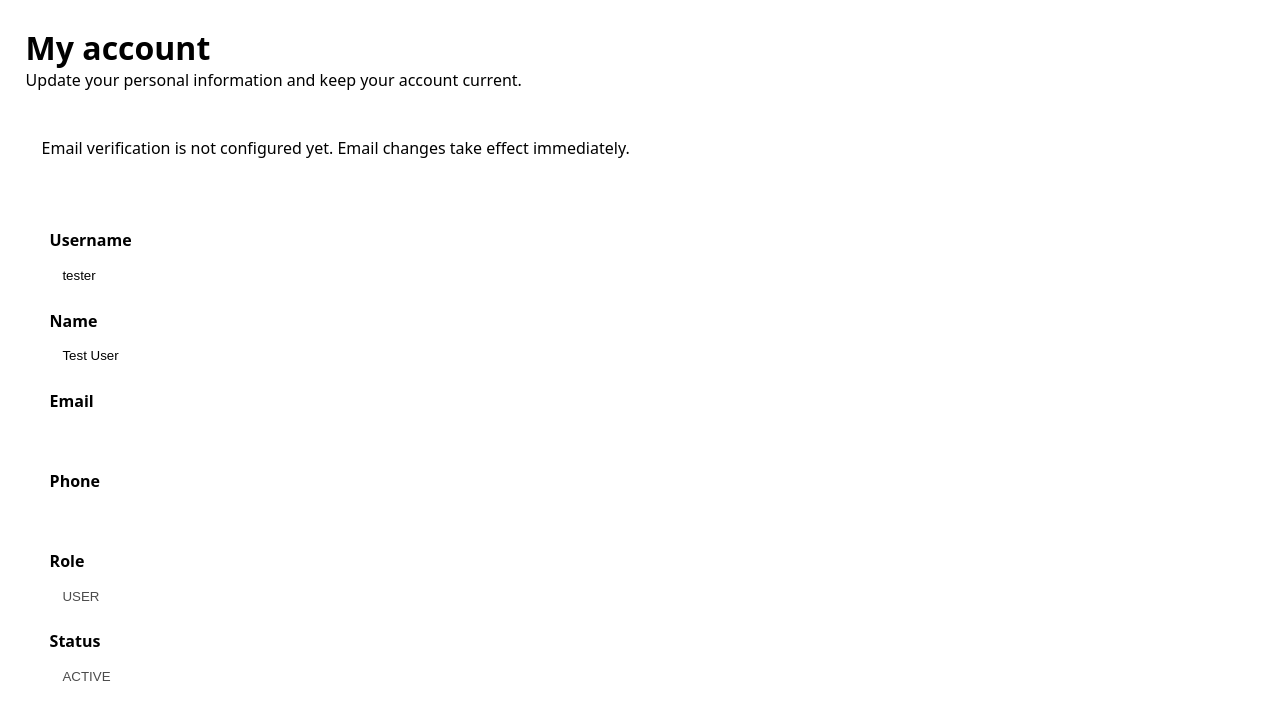
Test: AccountPage › updates name without requiring current password
Replace the text in the field labelled "Name" with "New Name" at (640, 356), box [50,338,1230,374]
(page scrolled)
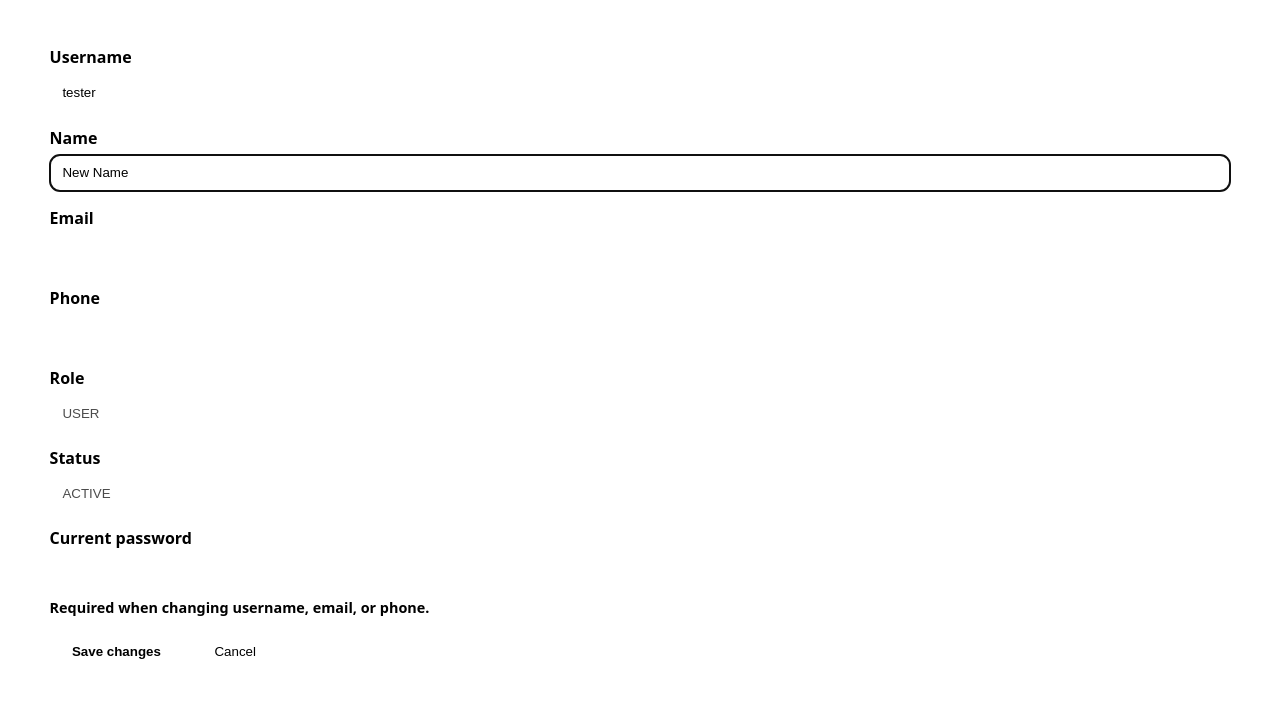
Click the button "Save changes" at (116, 652), box [50,633,183,670]
(page scrolled)
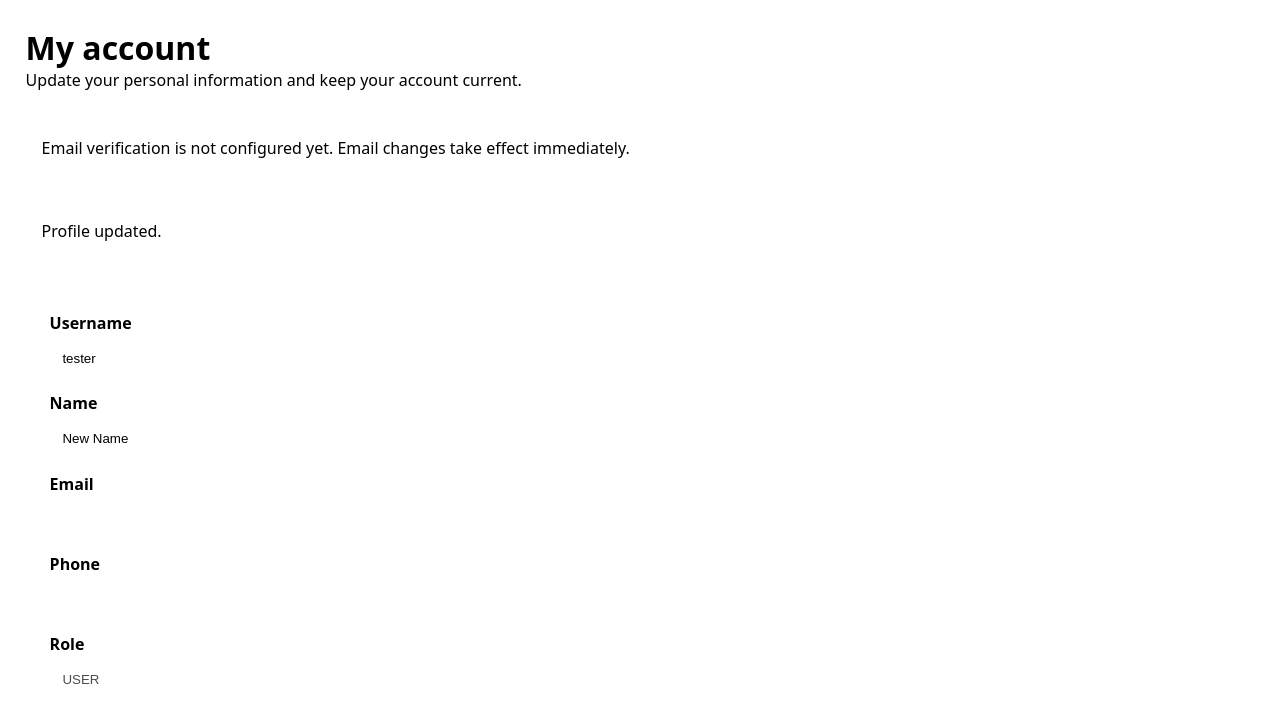
Result: the text "Profile updated." is shown at [42,220,162,242]
